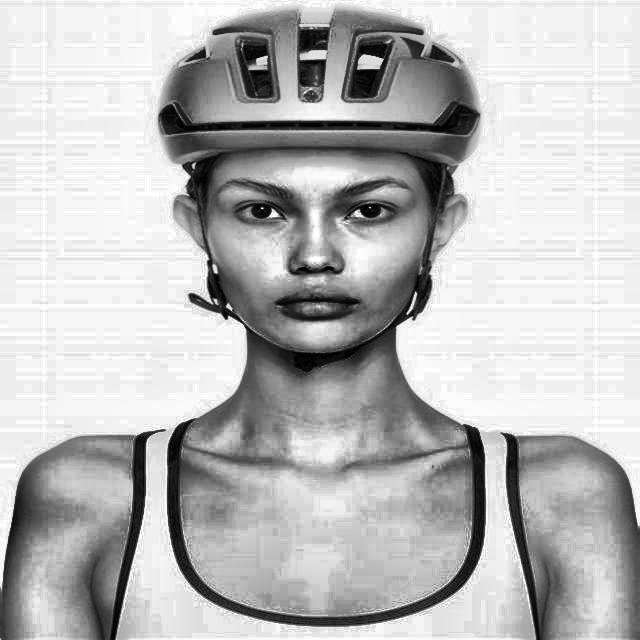Helmet: (152, 0, 486, 379)
